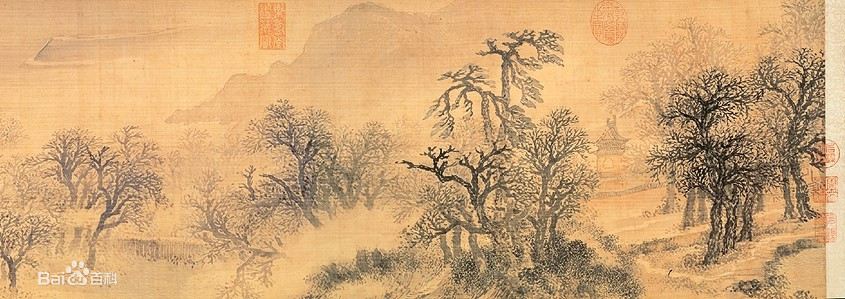booth: (596, 126, 629, 180)
grass: (641, 48, 776, 245), (328, 250, 635, 299), (772, 5, 819, 224)
mountain: (130, 2, 439, 105)
tree: (3, 120, 160, 288), (242, 108, 402, 212), (442, 35, 562, 173), (415, 167, 567, 248), (167, 127, 239, 268), (250, 218, 285, 294)
